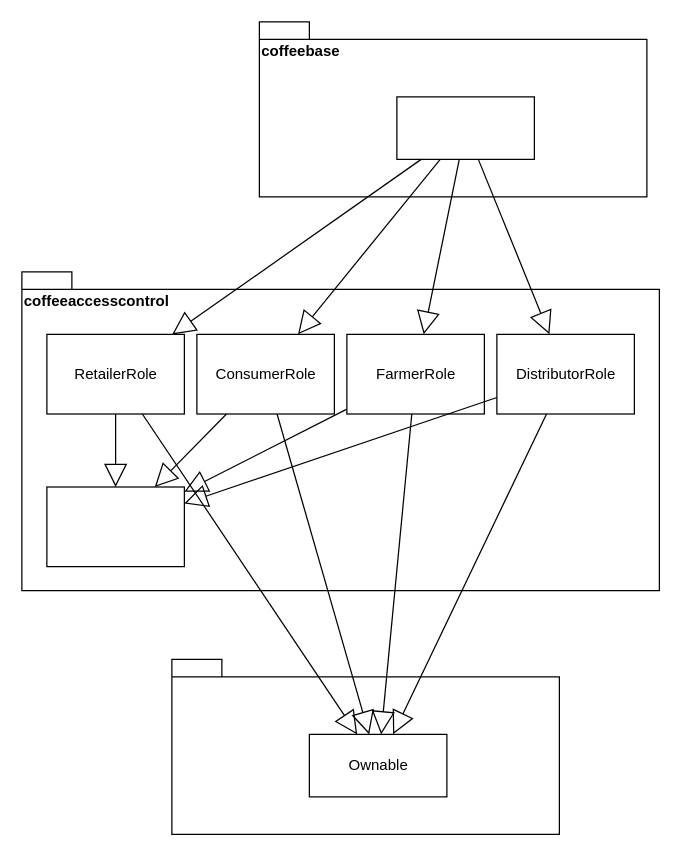
Image size: 681x856. Some labels were removed from this diagram. Here are the shapes that lost their labels. From the top down, the box of each, then its label:
(396, 96, 534, 159): SupplyChain
(46, 486, 184, 567): Roles
(171, 658, 559, 834): coffeecore
